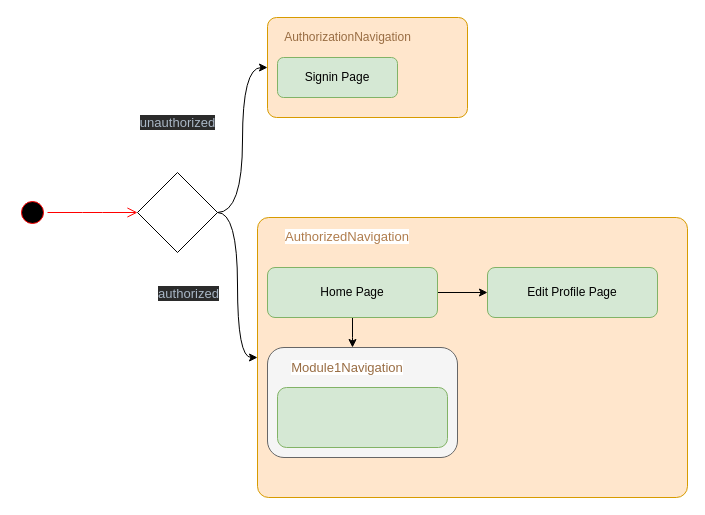
This 705x515 diagram has some shape labels left out. Each missing label, with the box of its shape:
isAuthorized: (136, 172, 218, 252)
Root Module1 Page: (276, 386, 448, 448)
